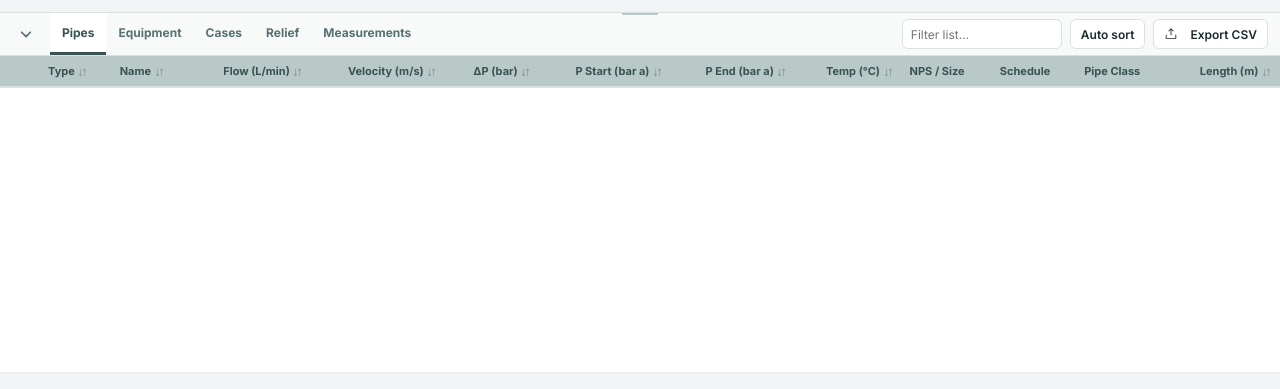
Test: relief analysis matrix › Shows the set pressure in bar g and a cycling result as text
The image size is (1280, 389).
Click the button "Relief" at (283, 34), box [254,13,311,55]
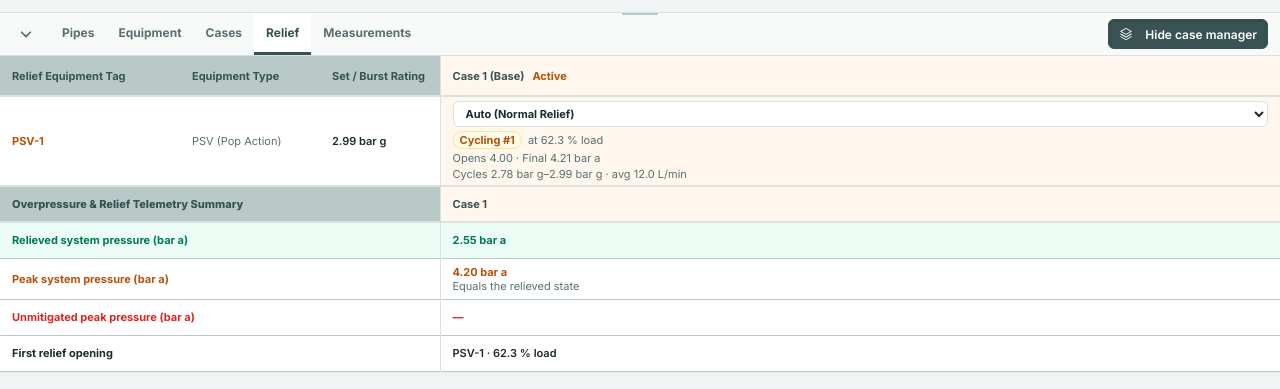
Check: the text "2.99 bar g" is shown, box [320,96,440,186]
Check: the text "Cycles 2.78 bar g–2.99 bar g · avg 12.0 L/min" is shown, box [452,167,687,181]
